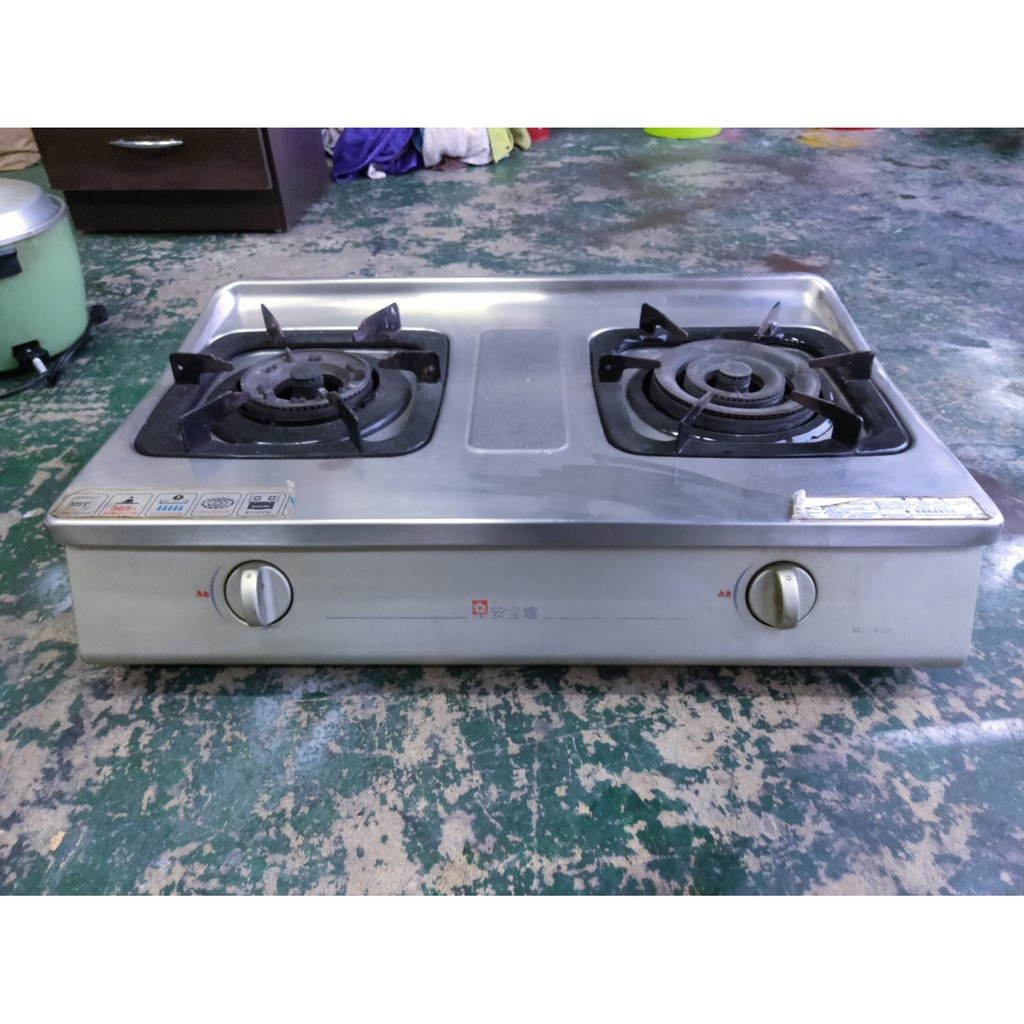gasoven: (42, 265, 1006, 690)
